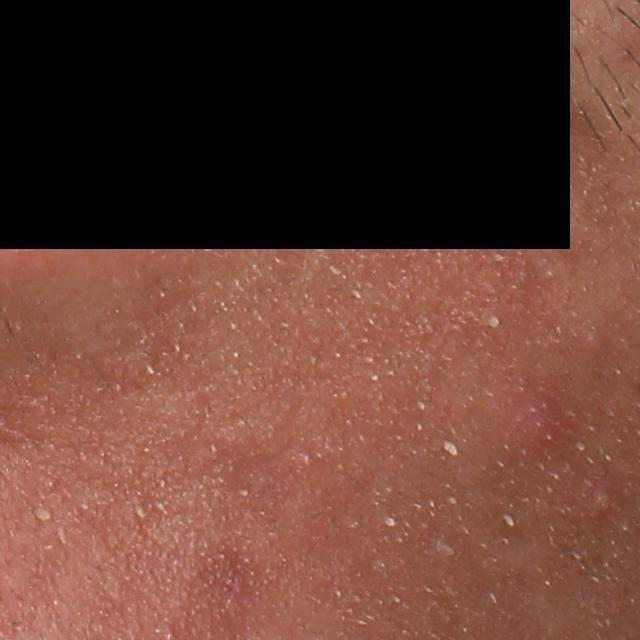other: (436, 437, 463, 458), (31, 505, 54, 524), (381, 513, 400, 528), (486, 314, 502, 331)
papule: (481, 374, 573, 474)
pustule: (588, 480, 617, 522)
